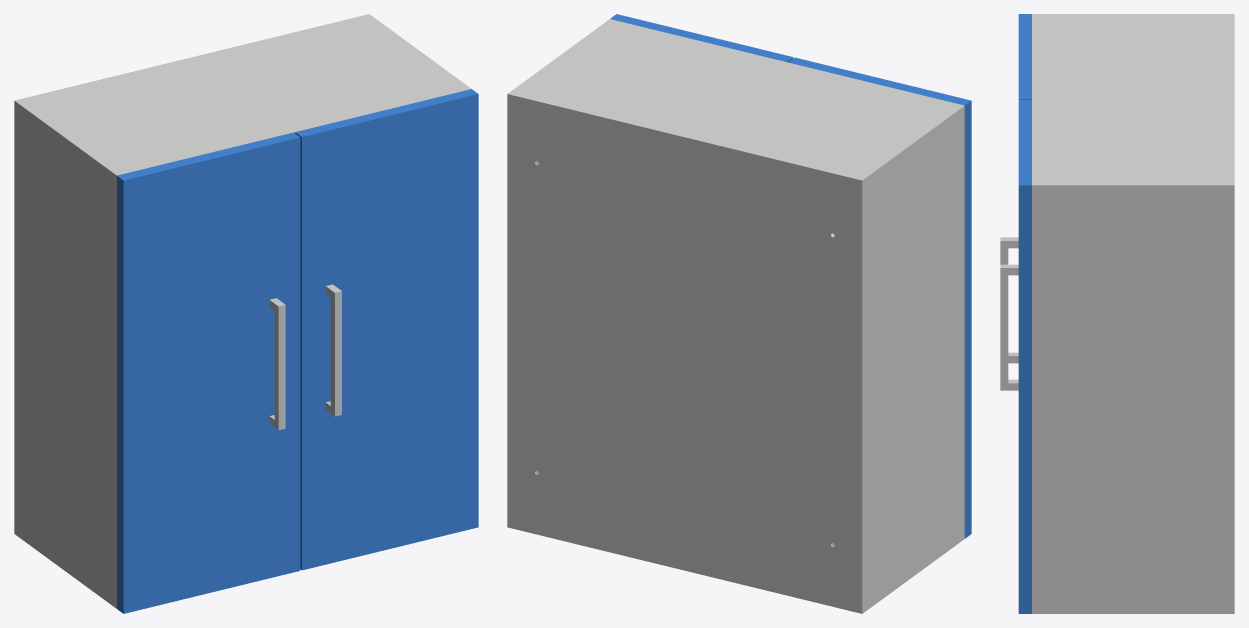
Rendered from hardware-cabinet.glb.
3 renders of one model, left to right at view 1: azimuth 30°, elevation 25°; view 2: azimuth 150°, elevation 25°; view 3: azimuth 270°, elevation 25°, orthographic.
Parts seen in each view (by area): view 1: door-l, body, door-r; view 2: body, door-l, door-r; view 3: body, door-r, door-l.
Part boxes in pixels (left/top/right/bottom): door-l: left=117, top=132, right=300, bottom=613; body: left=14, top=14, right=471, bottom=608; door-r: left=295, top=89, right=478, bottom=570; body: left=507, top=19, right=964, bottom=613; door-l: left=788, top=57, right=971, bottom=538; door-r: left=610, top=14, right=793, bottom=62; body: left=1032, top=14, right=1234, bottom=613; door-r: left=1000, top=100, right=1031, bottom=613; door-l: left=1000, top=14, right=1031, bottom=363.
Size of what is drawn, in the model's own units: 0.6 by 0.7 by 0.347.
